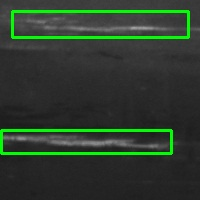scratches: (12, 11, 188, 37), (1, 130, 171, 153)
